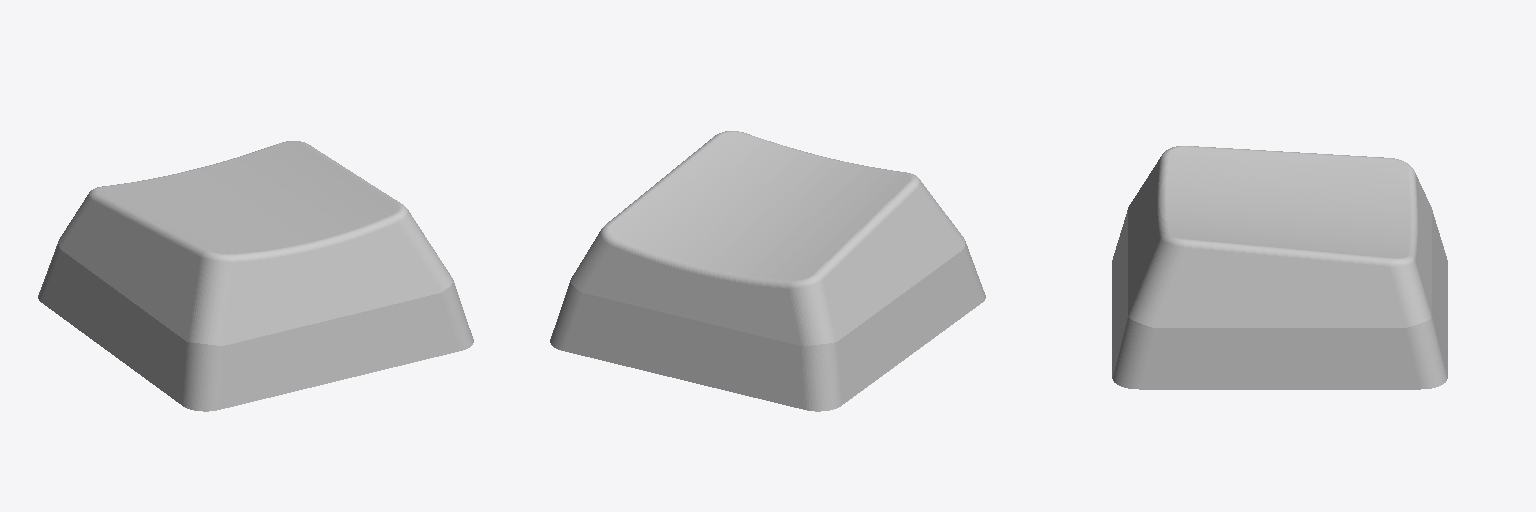
The model's file is Keycap.obj.
3 views of the same model, side by side, from view 1: azimuth 30°, elevation 25°; view 2: azimuth 150°, elevation 25°; view 3: azimuth 270°, elevation 25° (orthographic).
Parts seen in each view (by area): view 1: Keycap; view 2: Keycap; view 3: Keycap.
Boxes of the visible parts, x1,y1,x2,y2 form: Keycap: [38, 141, 473, 411]; Keycap: [550, 131, 985, 411]; Keycap: [1112, 146, 1447, 389].
Bounding box in the file's own units: 1.13 × 0.4765 × 1.14.